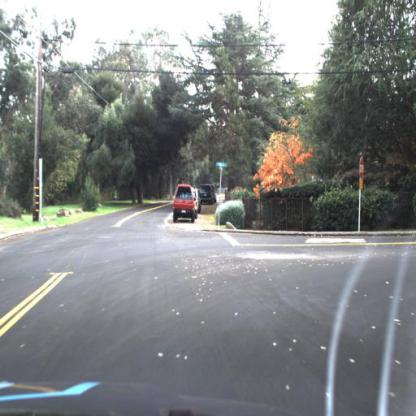car: (174, 184, 199, 228), (197, 183, 218, 210)
